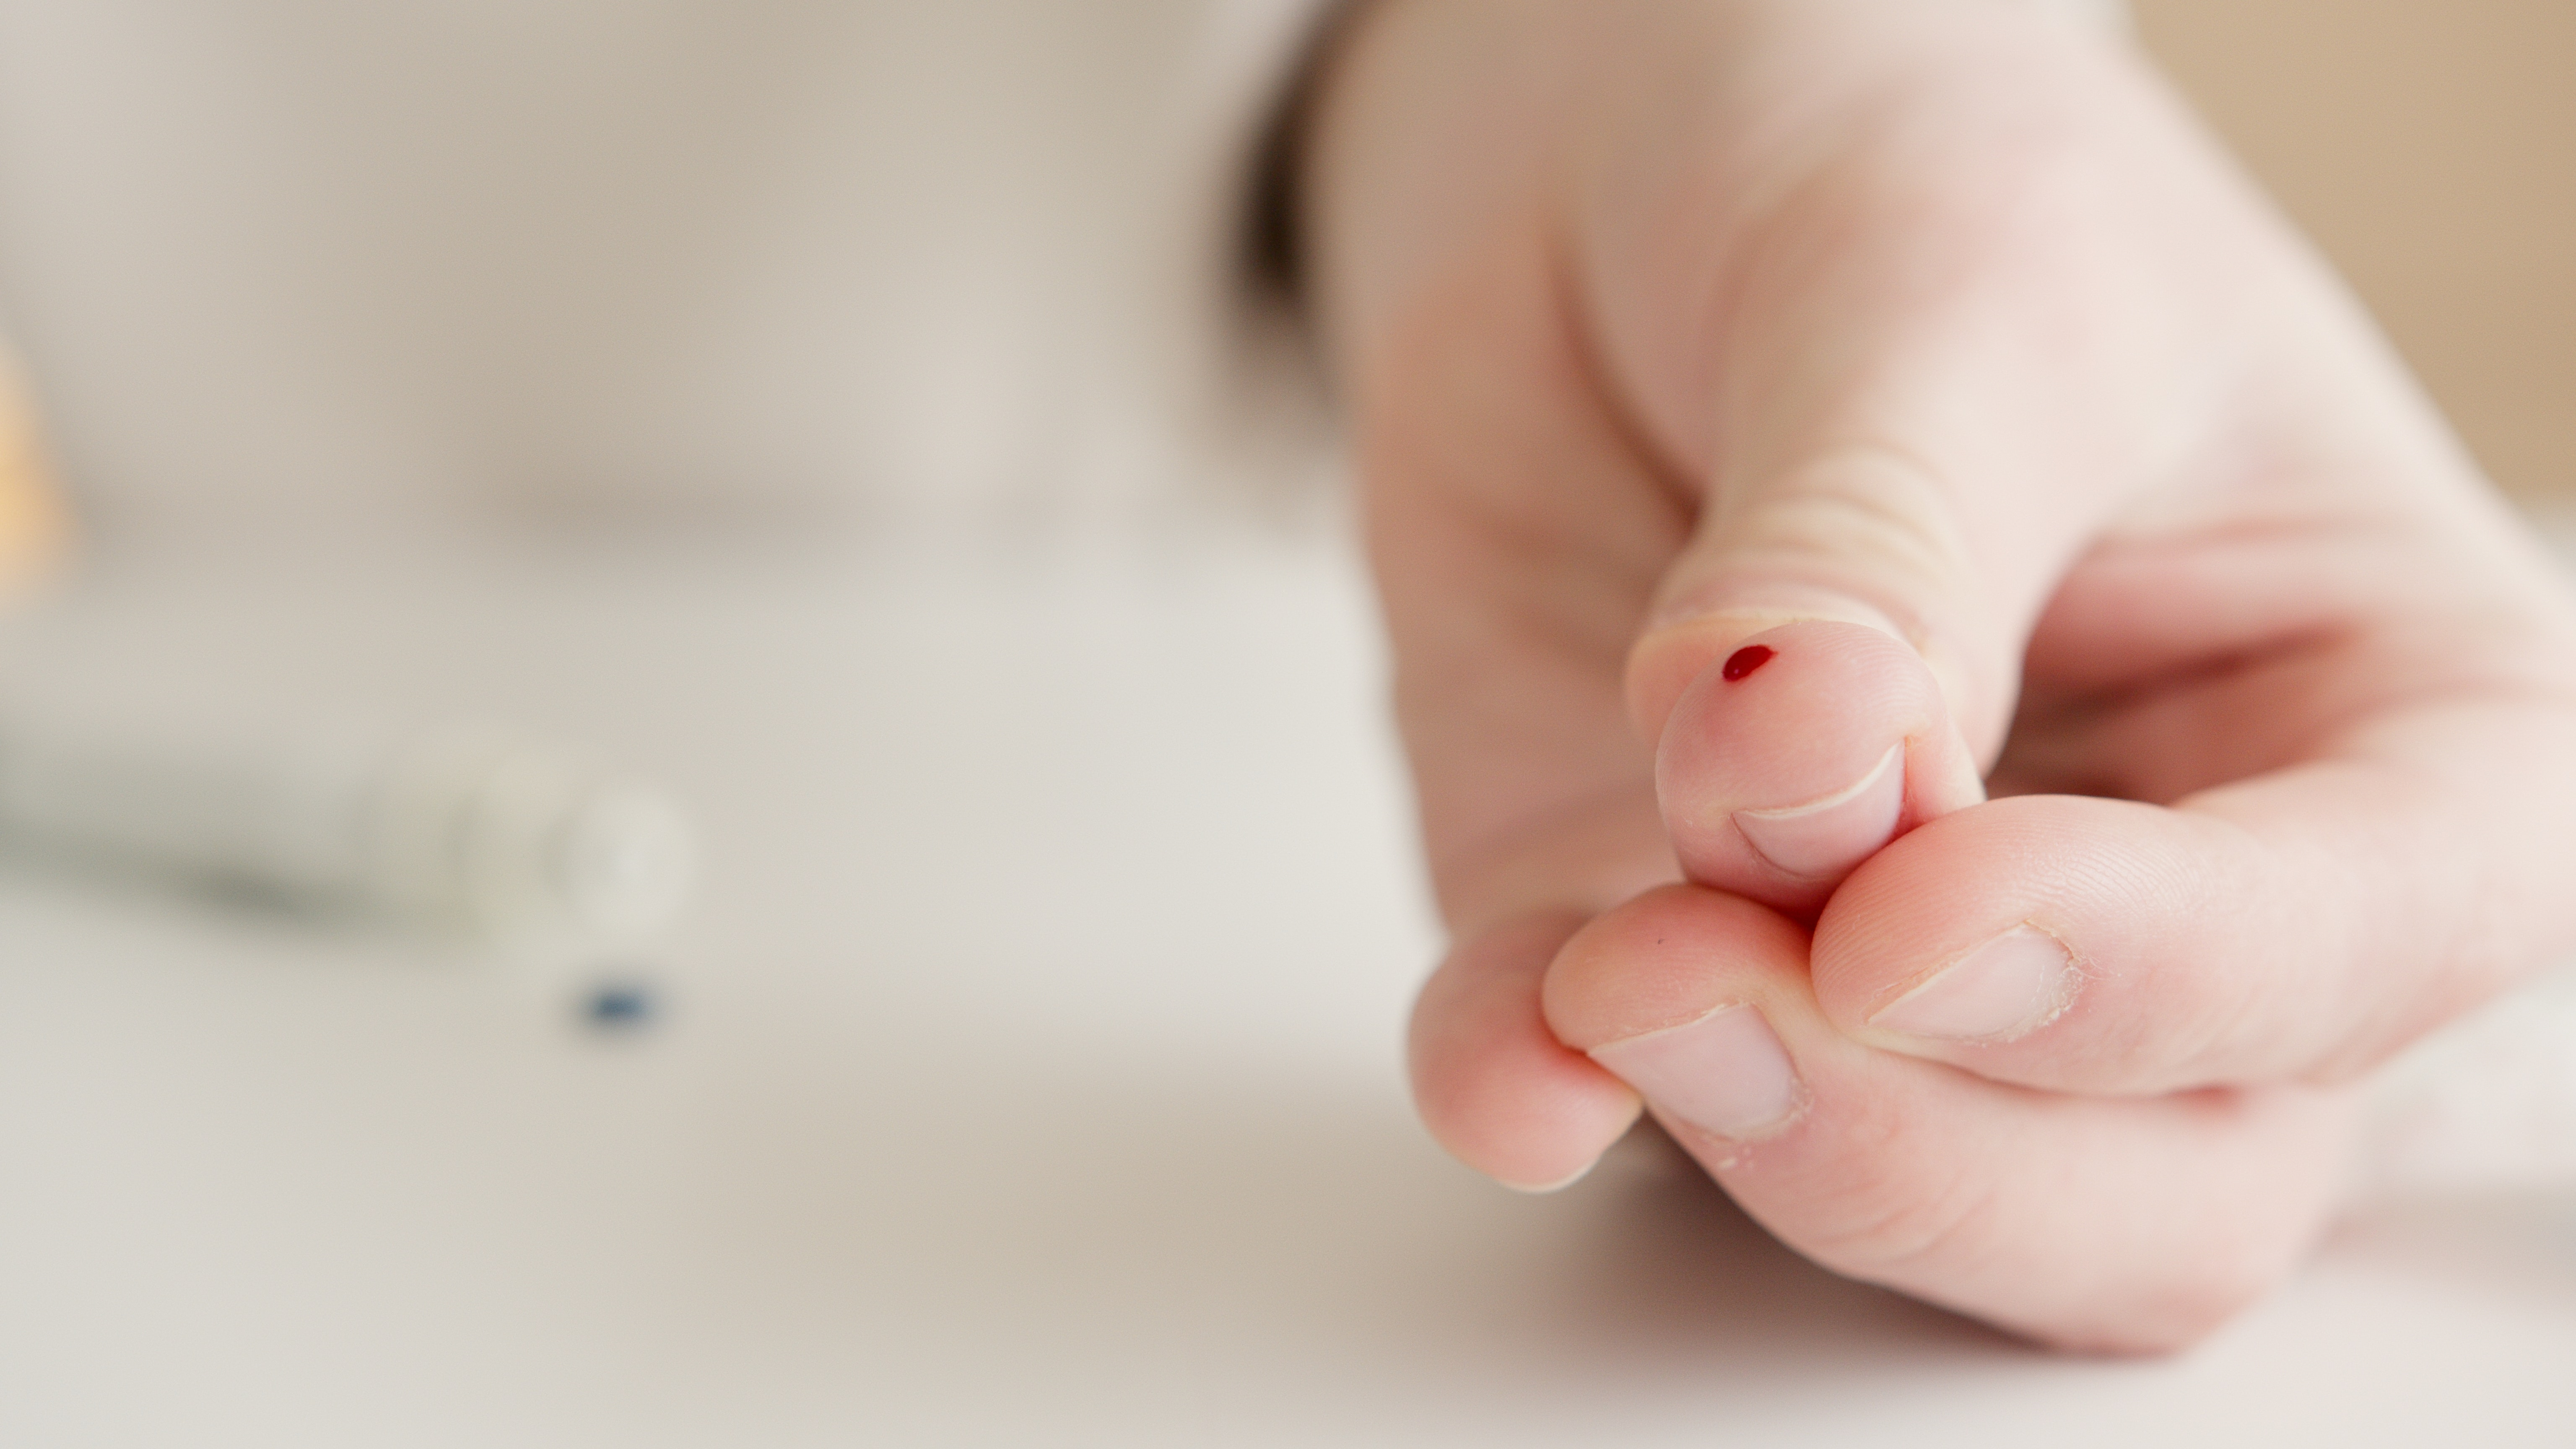blood: (1658, 619, 1992, 886)
